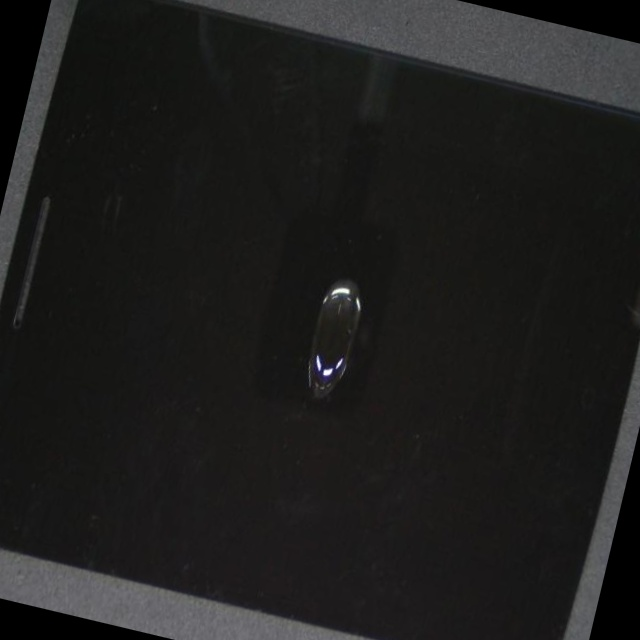oil: (106, 182, 551, 621)
